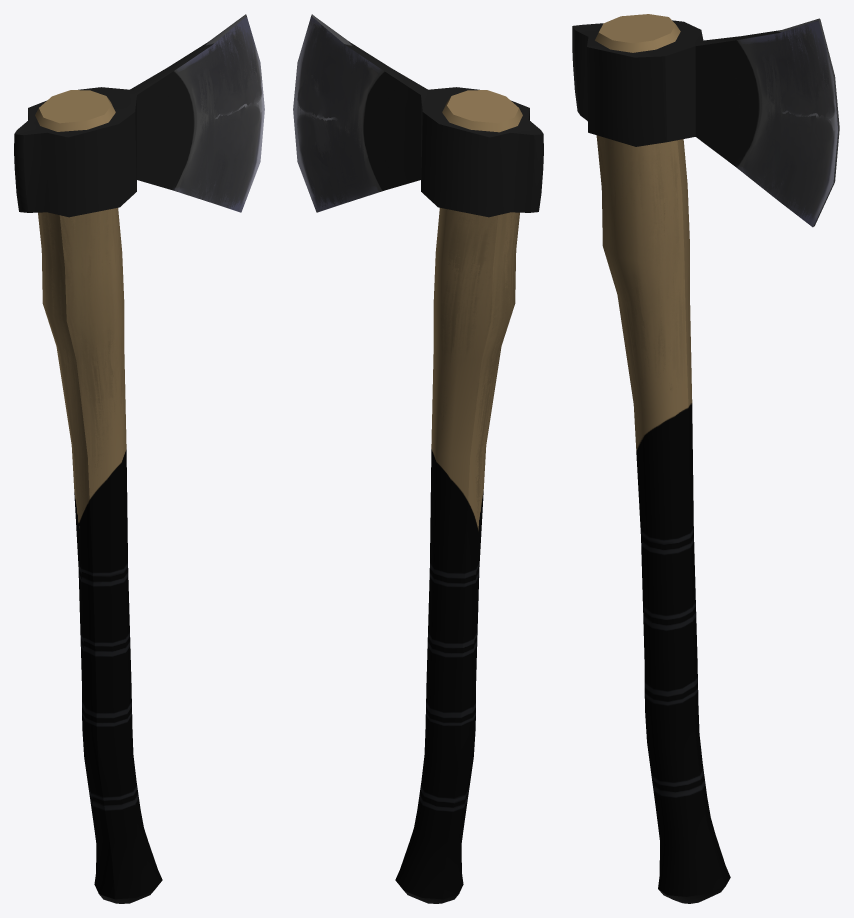
The model's file is Axe.fbx.
3 renders of one model, left to right at view 1: azimuth 30°, elevation 25°; view 2: azimuth 150°, elevation 25°; view 3: azimuth 330°, elevation 25°, orthographic. The views are drawn at different scales.
Visible parts, largest first — view 1: Axe; view 2: Axe; view 3: Axe.
Boxes of the visible parts, left/top/right/bottom form: Axe: left=14, top=14, right=264, bottom=903; Axe: left=293, top=14, right=543, bottom=903; Axe: left=572, top=14, right=839, bottom=903.
Size of the model in its own units: 35.67 by 117 by 11.39.
